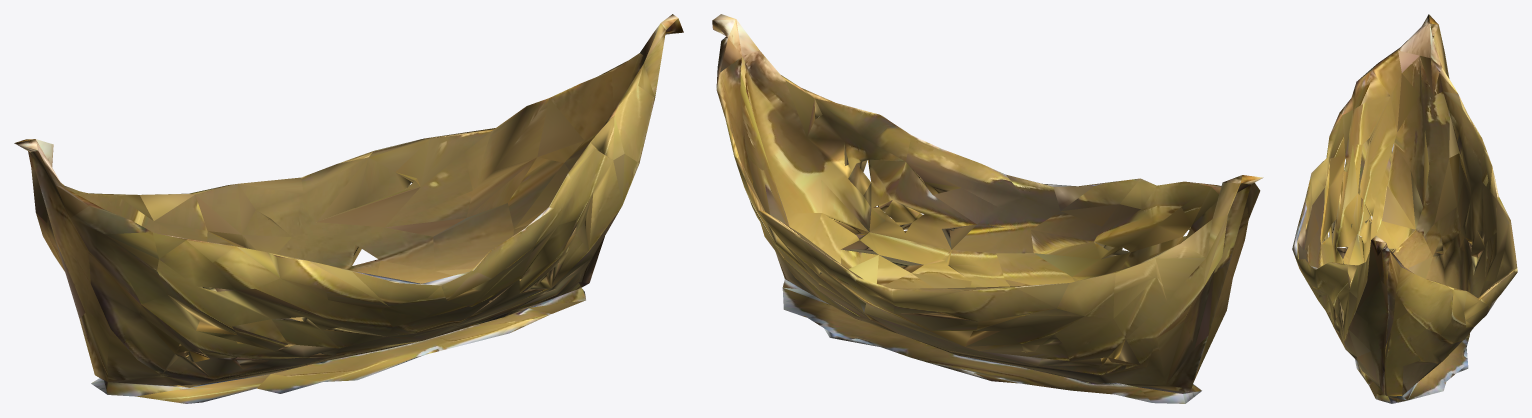
Rendered from toad-prop-leaf-boat.glb.
The picture shows the model from 3 angles, left to right: view 1: azimuth 30°, elevation 25°; view 2: azimuth 150°, elevation 25°; view 3: azimuth 270°, elevation 25°; orthographic projection. The views are drawn at different scales.
Parts seen in each view (by area): view 1: Mesh_0; view 2: Mesh_0; view 3: Mesh_0.
Boxes of the visible parts, left/top/right/bottom form: Mesh_0: left=14, top=14, right=683, bottom=403; Mesh_0: left=712, top=14, right=1263, bottom=403; Mesh_0: left=1292, top=14, right=1517, bottom=403.
Size of the model in its own units: 0.0496 by 0.02 by 0.0207.
1 material, 1 textured.
